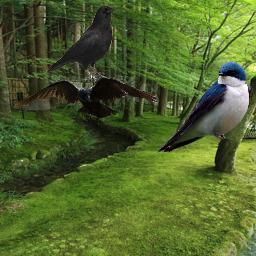Crow: (13, 76, 158, 126), (46, 4, 117, 82)
Swallow: (157, 61, 253, 153)
